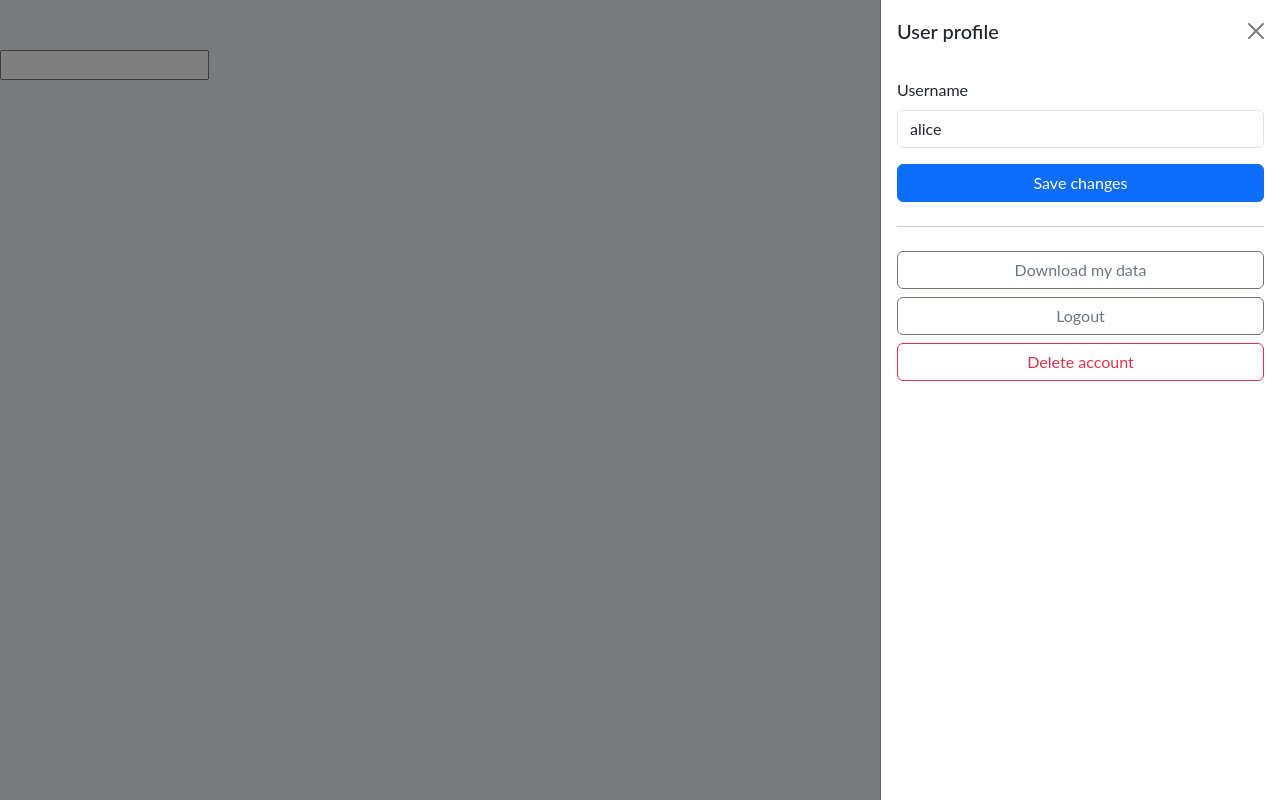
Test case: UserProfileModal › download data › shows an error when the download fails
expect the field showing "alice" below "Username" is shown: met, box [897,110,1264,148]
Click the button "Download my data": click(1080, 270) [897,251,1264,289]
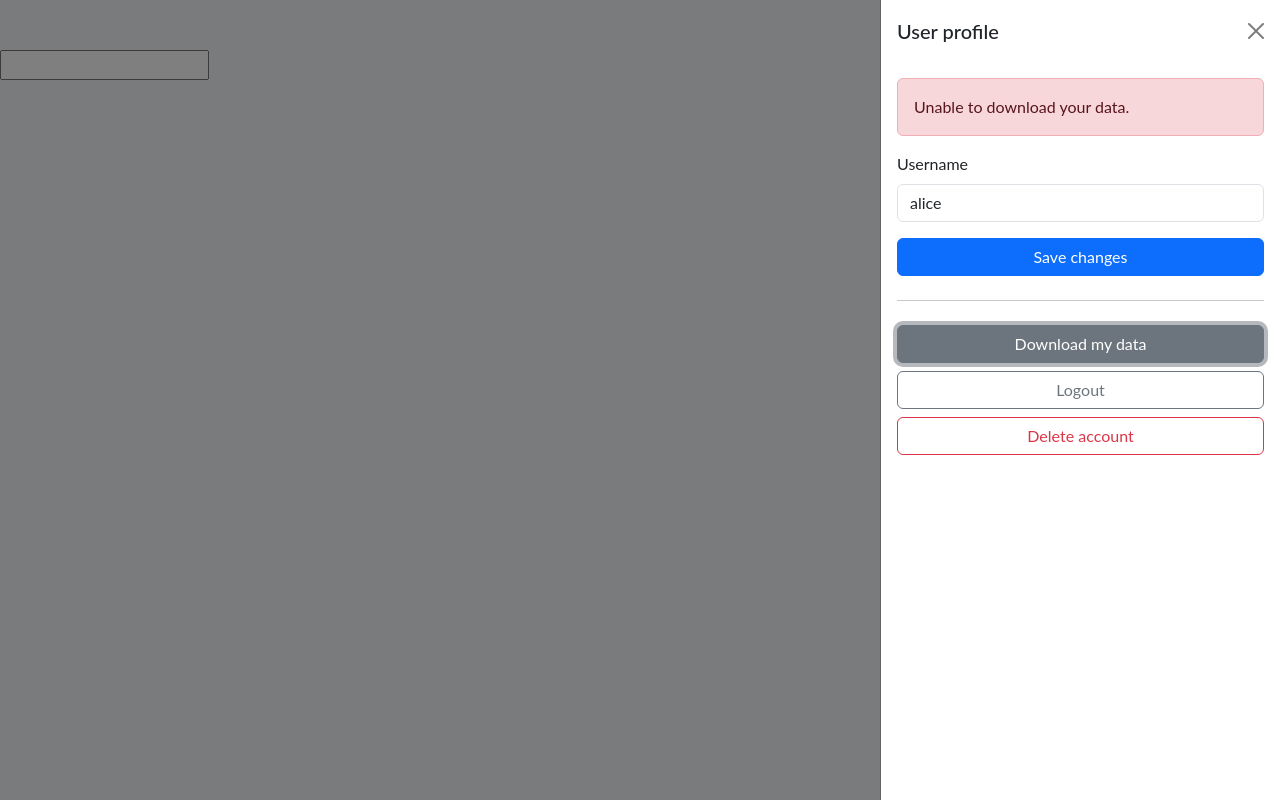
expect the text "Unable to download your data." is shown: met, box [897,78,1264,136]
